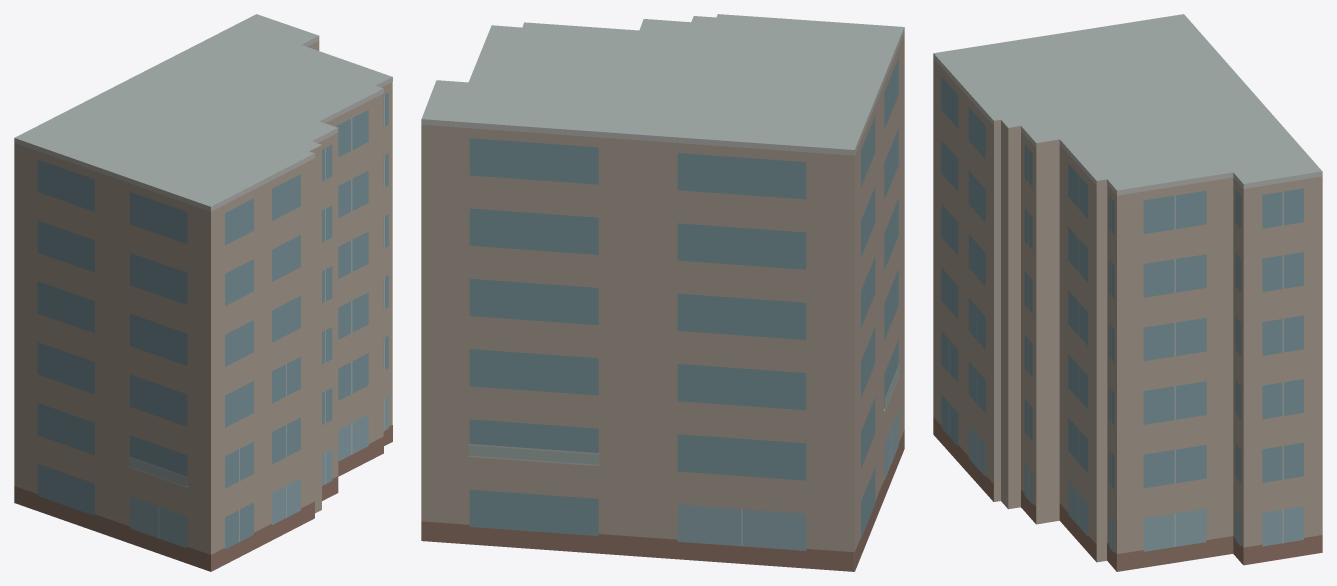
Rendered from survey-upis-32762511.glb.
3 renders of one model, left to right at view 1: azimuth 30°, elevation 25°; view 2: azimuth 150°, elevation 25°; view 3: azimuth 270°, elevation 25°, orthographic. The views are drawn at different scales.
Visible parts, largest first — view 1: survey-upis-32762511.tmp; view 2: survey-upis-32762511.tmp; view 3: survey-upis-32762511.tmp.
Boxes of the visible parts, x1,y1,x2,y2 form: survey-upis-32762511.tmp: (14, 14, 392, 571); survey-upis-32762511.tmp: (421, 14, 904, 571); survey-upis-32762511.tmp: (933, 14, 1322, 571).
Size of the model in its own units: 18.18 by 18.3 by 16.93.
